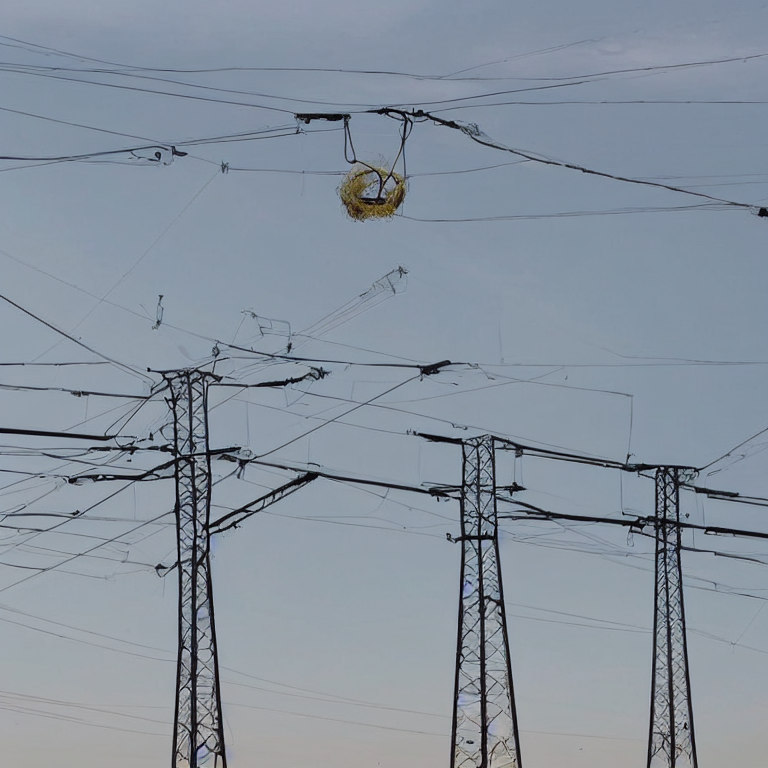nest: (342, 165, 404, 215)
